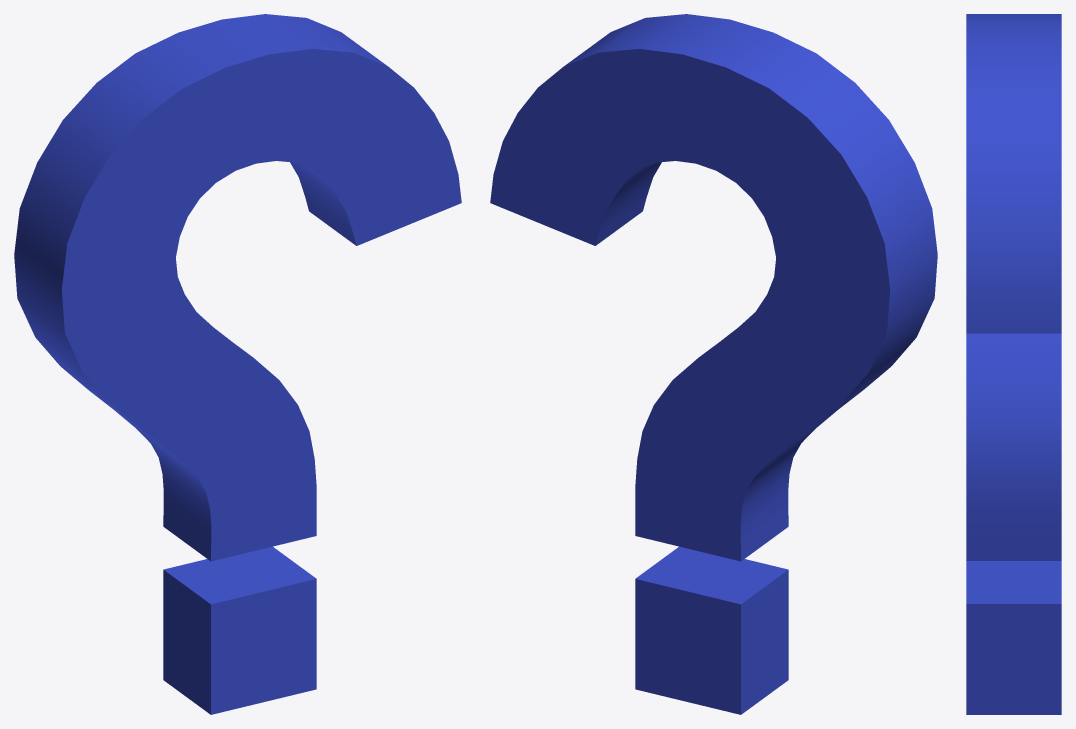
The model's file is player_lost_mark.obj.
The picture shows the model from 3 angles, left to right: view 1: azimuth 30°, elevation 25°; view 2: azimuth 150°, elevation 25°; view 3: azimuth 270°, elevation 25°; orthographic projection.
Visible parts, largest first — view 1: question_mark; view 2: question_mark; view 3: question_mark.
Part boxes in pixels (x1,y1,x2,y2): question_mark: (14, 14, 461, 714); question_mark: (490, 14, 937, 714); question_mark: (966, 14, 1061, 714).
Size of the model in its own units: 0.9702 by 1.5 by 0.2.
